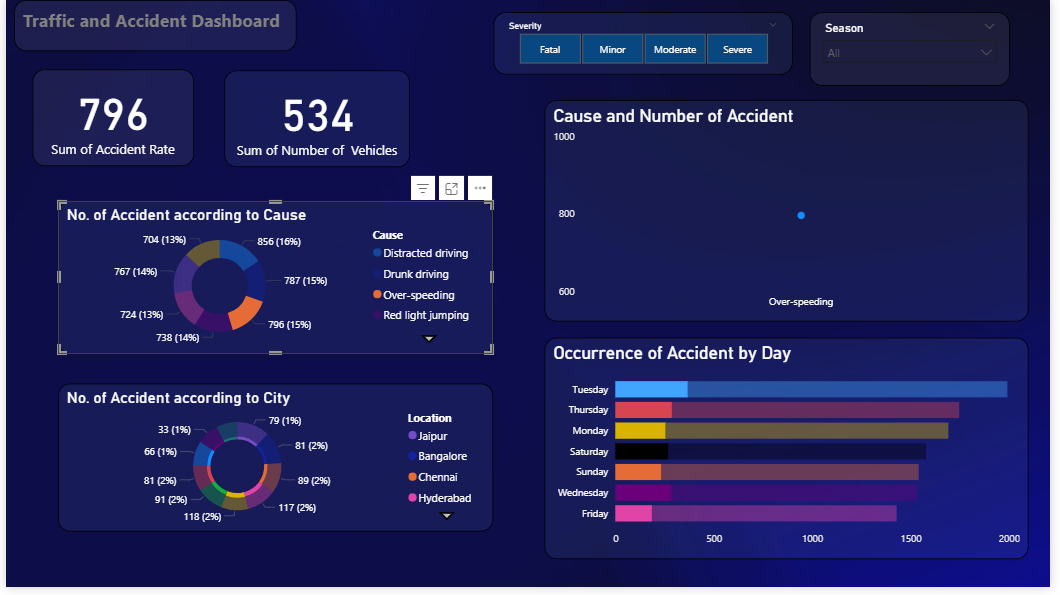

The page's visual inventory and layout, read from the dashboard file:
{"tool":"powerbi","page":{"name":"Page 1","canvas":[1280,720],"ordinal":0},"visuals":[{"type":"textbox","box":[10,0,346.2,62.5],"z":0},{"type":"areaChart","title":"Cause and Number of Accident","fields":{"Category":["traffic_accident_data.Cause"],"Y":["Sum(traffic_accident_data.Accident_Rate)"]},"box":[660,122.2,593.3,271.1],"z":1000},{"type":"barChart","title":"Occurrence of Accident by Day","fields":{"Category":["traffic_accident_data.Day_of_Week"],"Y":["Sum(traffic_accident_data.Hour_of_Day)"]},"box":[660,413.3,593.3,271.1],"z":2000},{"type":"donutChart","title":"No. of Accident according to City","fields":{"Y":["Sum(traffic_accident_data.Accident_Rate)"],"Category":["traffic_accident_data.Location"]},"box":[63.8,470,533.8,181.2],"z":3000},{"type":"donutChart","title":"No. of Accident according to Cause","fields":{"Y":["Sum(traffic_accident_data.Accident_Rate)"],"Series":["traffic_accident_data.Cause"]},"box":[63.8,246.2,533.8,187.5],"z":4000},{"type":"card","fields":{"Values":["Sum(traffic_accident_data.Accident_Rate)"]},"box":[32.2,85.6,197.8,118.9],"z":5000},{"type":"card","fields":{"Values":["Sum(traffic_accident_data.Number_of_Vehicles)"]},"box":[267.8,86.7,227.8,118.9],"z":6000},{"type":"slicer","fields":{"Values":["traffic_accident_data.Severity"]},"box":[597.5,15,366.2,76.2],"z":7000},{"type":"slicer","fields":{"Values":["traffic_accident_data.Season"]},"box":[985,15,245,90],"z":8000}]}

Visuals, with their boxes in screenshot pixels (x1, y1, x2, y2), scaled from the page's 1280x720 canvas onto the 1060x595 screenshot:
textbox: (x1=8, y1=0, x2=295, y2=52)
"Cause and Number of Accident" areaChart: (x1=547, y1=101, x2=1038, y2=325)
"Occurrence of Accident by Day" barChart: (x1=547, y1=342, x2=1038, y2=566)
"No. of Accident according to City" donutChart: (x1=53, y1=388, x2=495, y2=538)
"No. of Accident according to Cause" donutChart: (x1=53, y1=203, x2=495, y2=358)
card - Sum(traffic_accident_data.Accident_Rate): (x1=27, y1=71, x2=190, y2=169)
card - Sum(traffic_accident_data.Number_of_Vehicles): (x1=222, y1=72, x2=410, y2=170)
slicer - traffic_accident_data.Severity: (x1=495, y1=12, x2=798, y2=75)
slicer - traffic_accident_data.Season: (x1=816, y1=12, x2=1019, y2=87)
